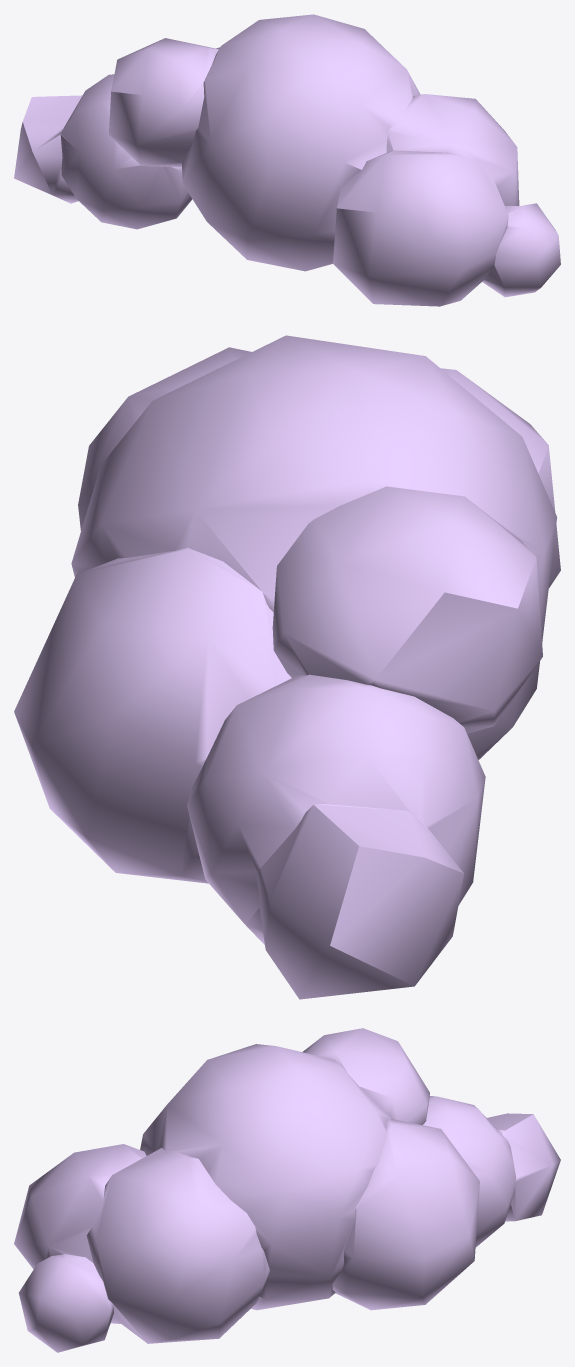
The model's file is 1nube.glb.
3 views of the same model, one above another, from view 1: azimuth 30°, elevation 25°; view 2: azimuth 150°, elevation 25°; view 3: azimuth 270°, elevation 25° (orthographic). The views are drawn at different scales.
Parts seen in each view (by area): view 1: Object_2.007; view 2: Object_2.007; view 3: Object_2.007.
Part boxes in pixels (left/top/right/bottom): Object_2.007: left=14, top=14, right=560, bottom=306; Object_2.007: left=14, top=335, right=560, bottom=999; Object_2.007: left=14, top=1028, right=560, bottom=1352.
Bounding box in the file's own units: 0.7526 × 0.485 × 1.01.
